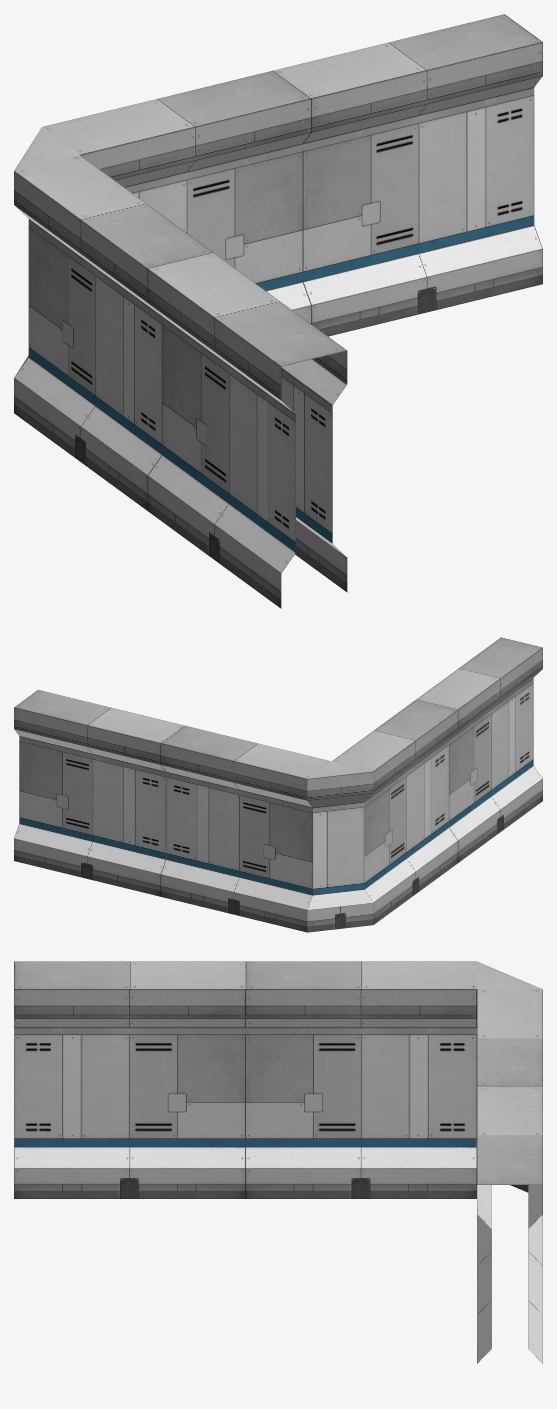
File: Corner_Long_02.FBX
3 views of the same model, one above another, from view 1: azimuth 30°, elevation 25°; view 2: azimuth 150°, elevation 25°; view 3: azimuth 270°, elevation 25° (orthographic). The views are drawn at different scales.
Parts seen in each view (by area): view 1: Corner_Long_02; view 2: Corner_Long_02; view 3: Corner_Long_02.
Boxes of the visible parts, bbox=[...] form: Corner_Long_02: bbox=[14, 14, 542, 608]; Corner_Long_02: bbox=[14, 637, 542, 932]; Corner_Long_02: bbox=[14, 961, 542, 1363].
Bounding box in the file's own units: 320 × 140 × 320.
